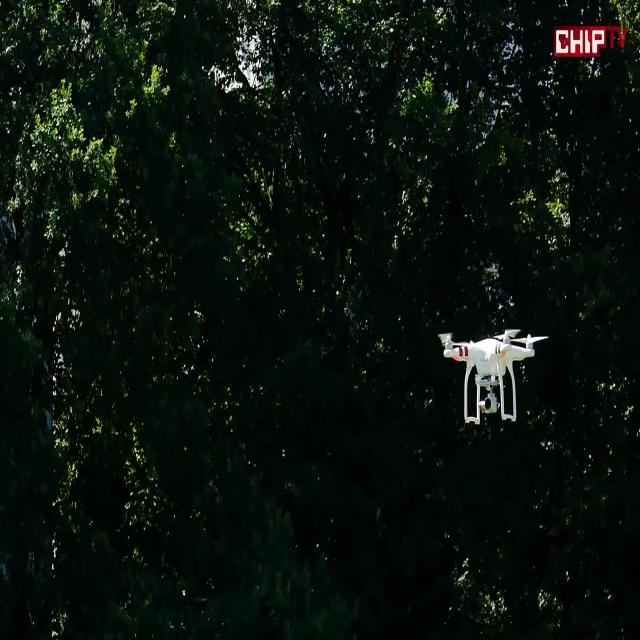drones: (432, 310, 555, 439)
